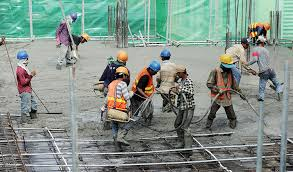helmet: (149, 60, 161, 73), (219, 55, 233, 65), (117, 52, 128, 64), (114, 67, 128, 76), (160, 49, 172, 58), (17, 50, 28, 59), (81, 32, 90, 42)
vest: (108, 83, 132, 113), (136, 71, 159, 98), (213, 70, 232, 97)
